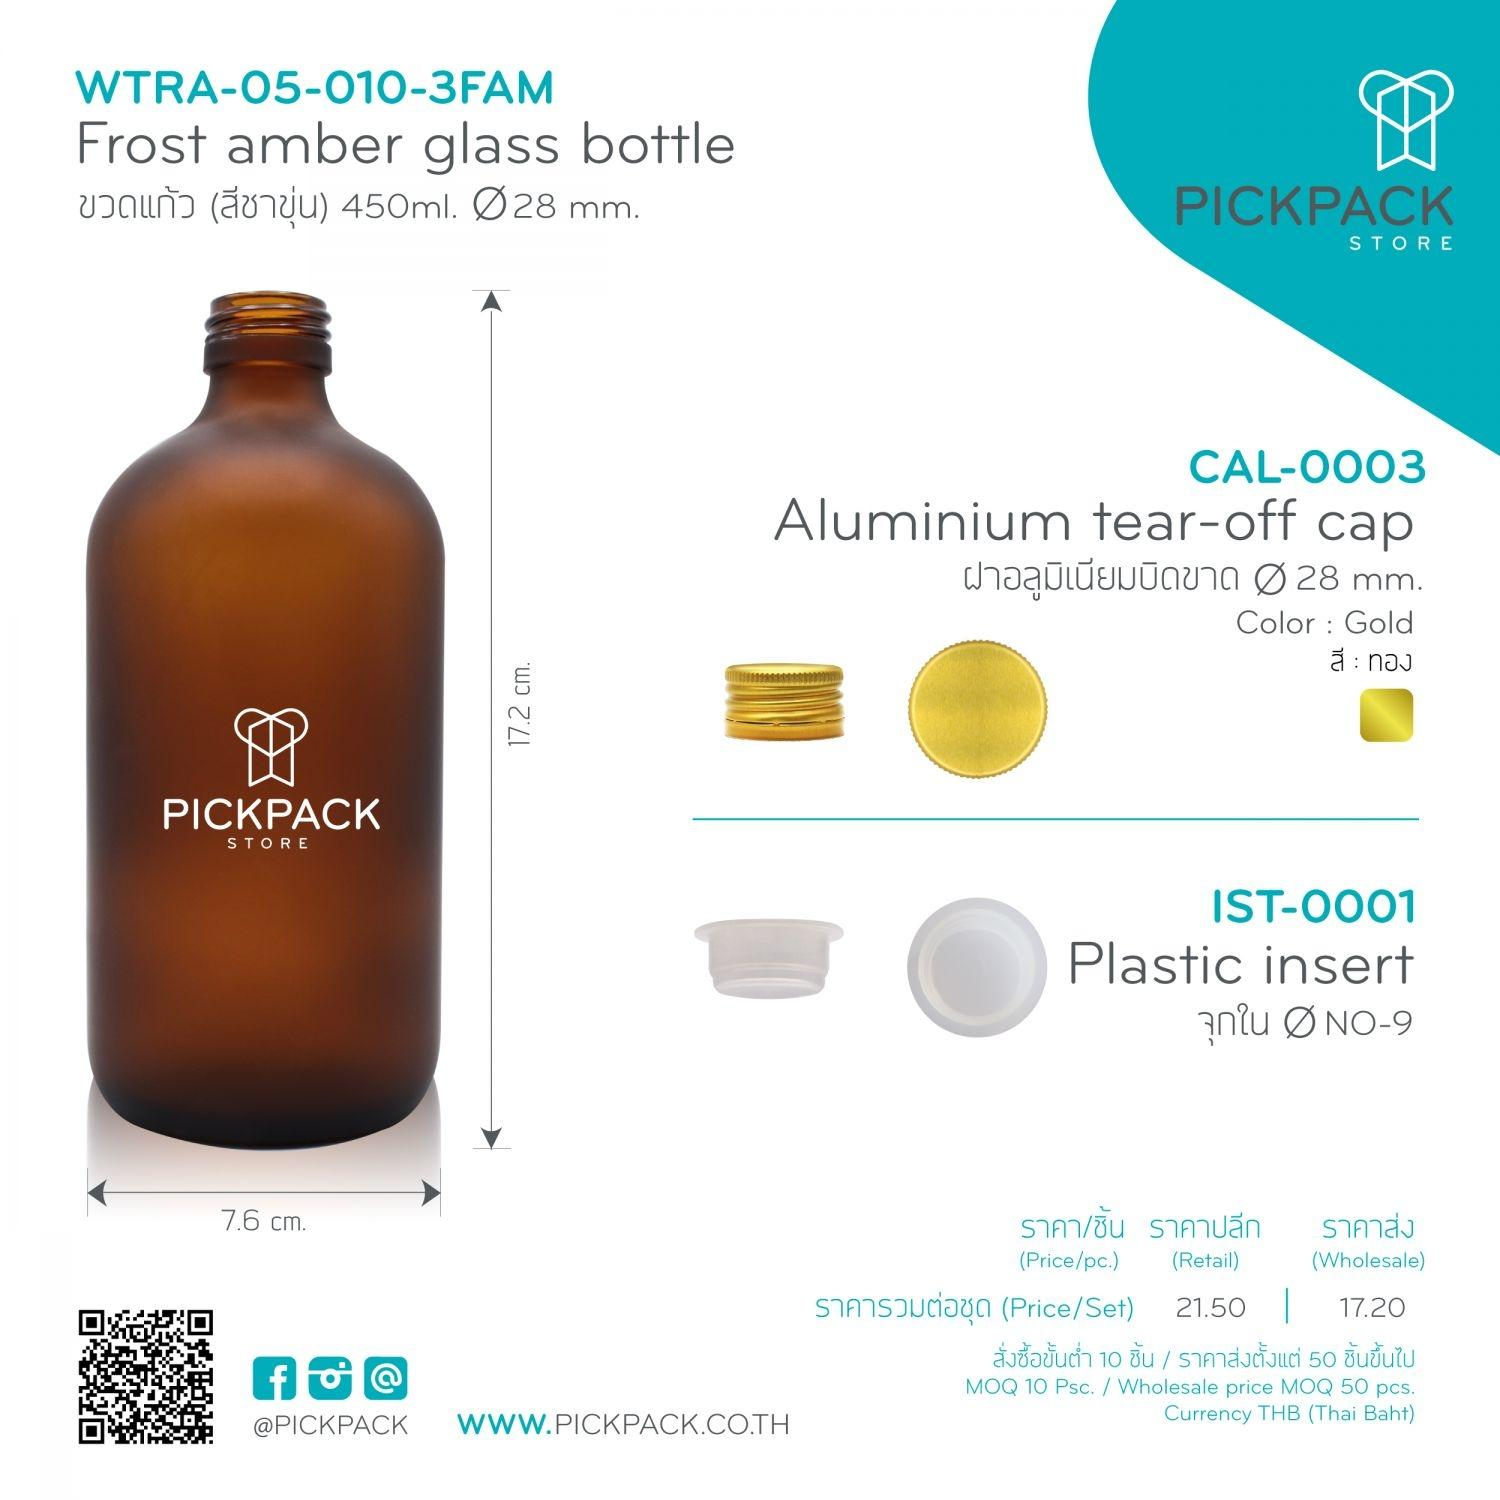glass_bottle: (70, 277, 453, 1155)
